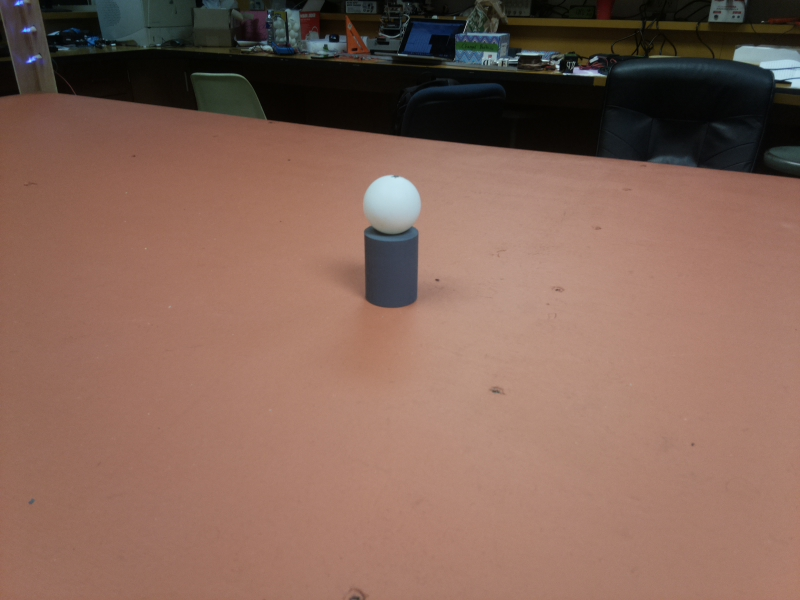obstacle: (361, 174, 421, 311)
